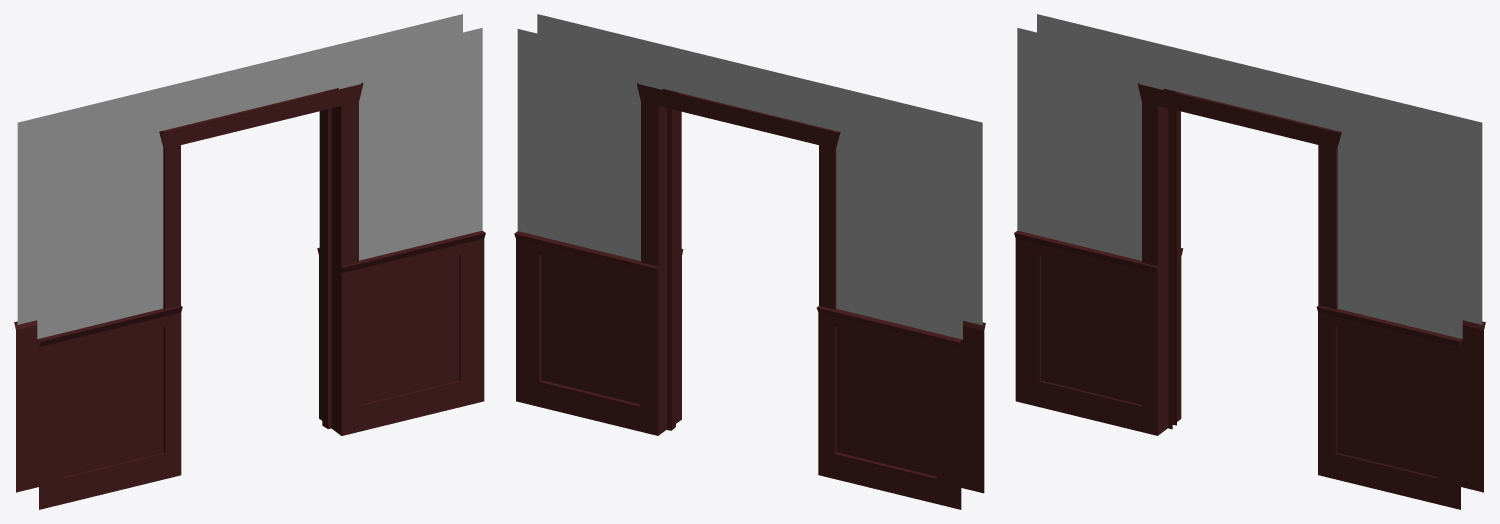
The model's file is DoorFrame1.fbx.
3 views of the same model, side by side, from view 1: azimuth 30°, elevation 25°; view 2: azimuth 150°, elevation 25°; view 3: azimuth 330°, elevation 25° (orthographic).
Visible parts, largest first — view 1: polySurface55; view 2: polySurface55; view 3: polySurface55.
Part boxes in pixels (box(x1,y1,x2,y2)): polySurface55: box(14, 14, 485, 509); polySurface55: box(514, 14, 985, 509); polySurface55: box(1014, 14, 1485, 509).
Size of the model in its own units: 3.98 by 3.18 by 0.4109.
